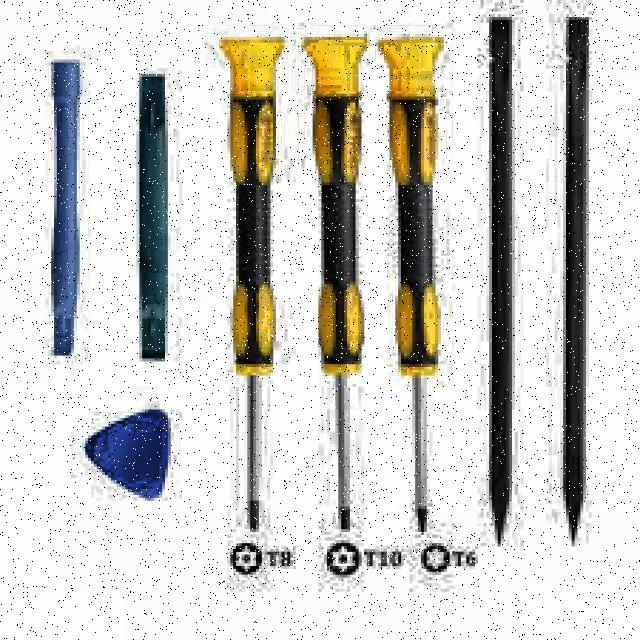screwdriver: (379, 40, 446, 534), (218, 38, 284, 536), (306, 38, 372, 530)
